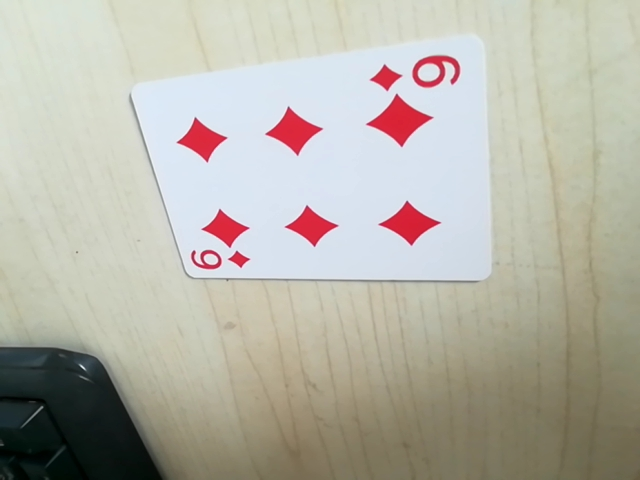fk 6: (367, 48, 466, 98), (187, 245, 252, 278)
